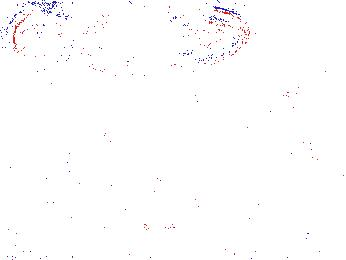moon jellyfish: (155, 8, 250, 69), (48, 1, 154, 55), (266, 91, 323, 182), (3, 8, 68, 72)
